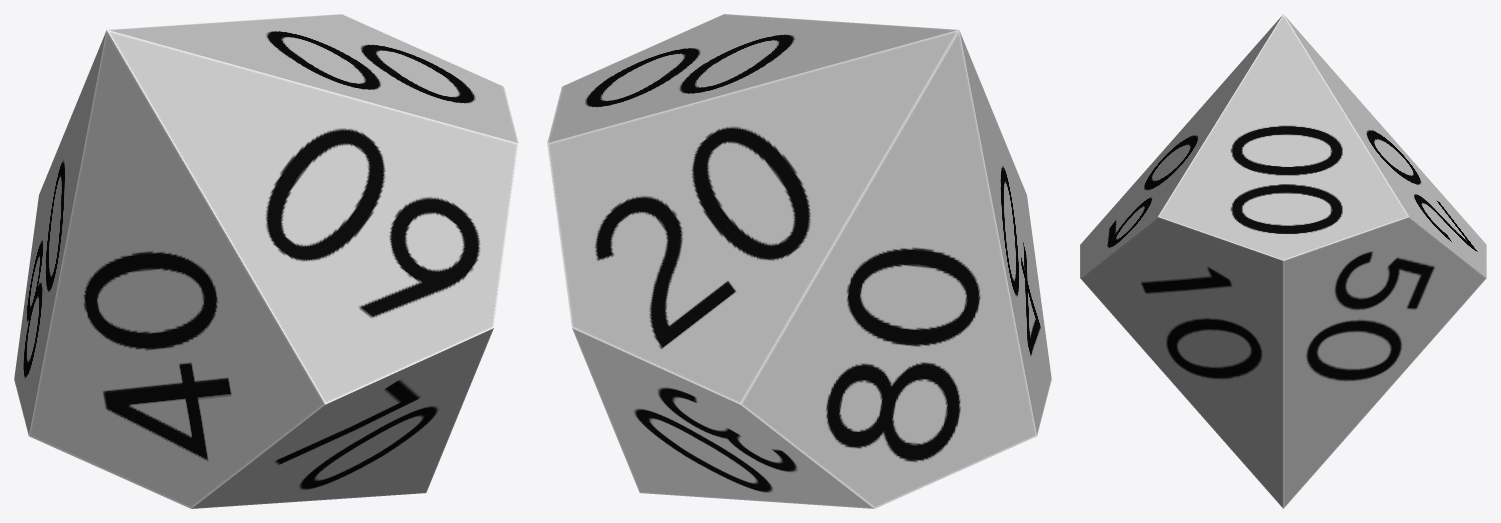
File: d10_percent_white.gltf
3 renders of one model, left to right at view 1: azimuth 30°, elevation 25°; view 2: azimuth 150°, elevation 25°; view 3: azimuth 270°, elevation 25°, orthographic. The views are drawn at different scales.
Visible parts, largest first — view 1: d10_Percent; view 2: d10_Percent; view 3: d10_Percent.
Part boxes in pixels (left/top/right/bottom): d10_Percent: left=14, top=14, right=518, bottom=508; d10_Percent: left=547, top=14, right=1051, bottom=508; d10_Percent: left=1080, top=14, right=1486, bottom=508.
Size of the model in its own units: 1.79 by 1.95 by 1.87.
1 material, 1 textured.
